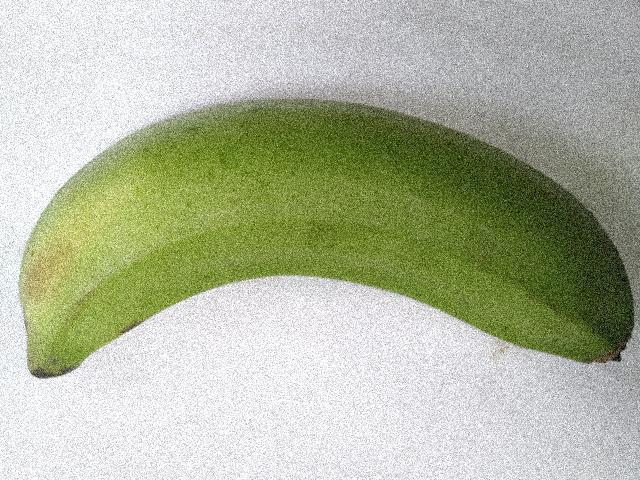freshunripe: (11, 79, 639, 396)
